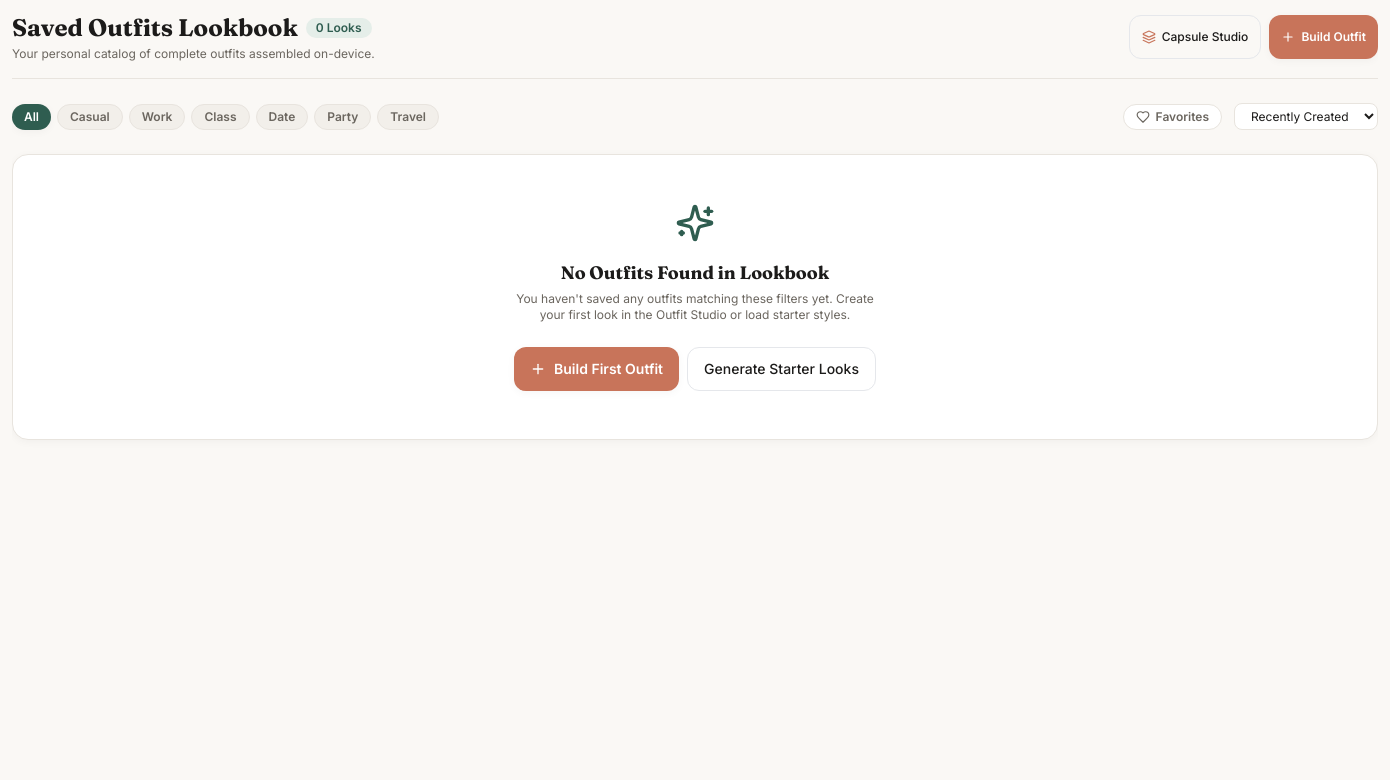
Phase 6: Outfit Studio, Lookbook Gallery & Capsule Wardrobe › LookbookGallery › renders empty state when no outfits exist and generates starter looks
Expected: the heading "No Outfits Found in Lookbook" is shown, [561,261,829,284]
Click generate starter looks
Click the button "Generate Starter Looks" at (781, 369), box [687,347,876,391]
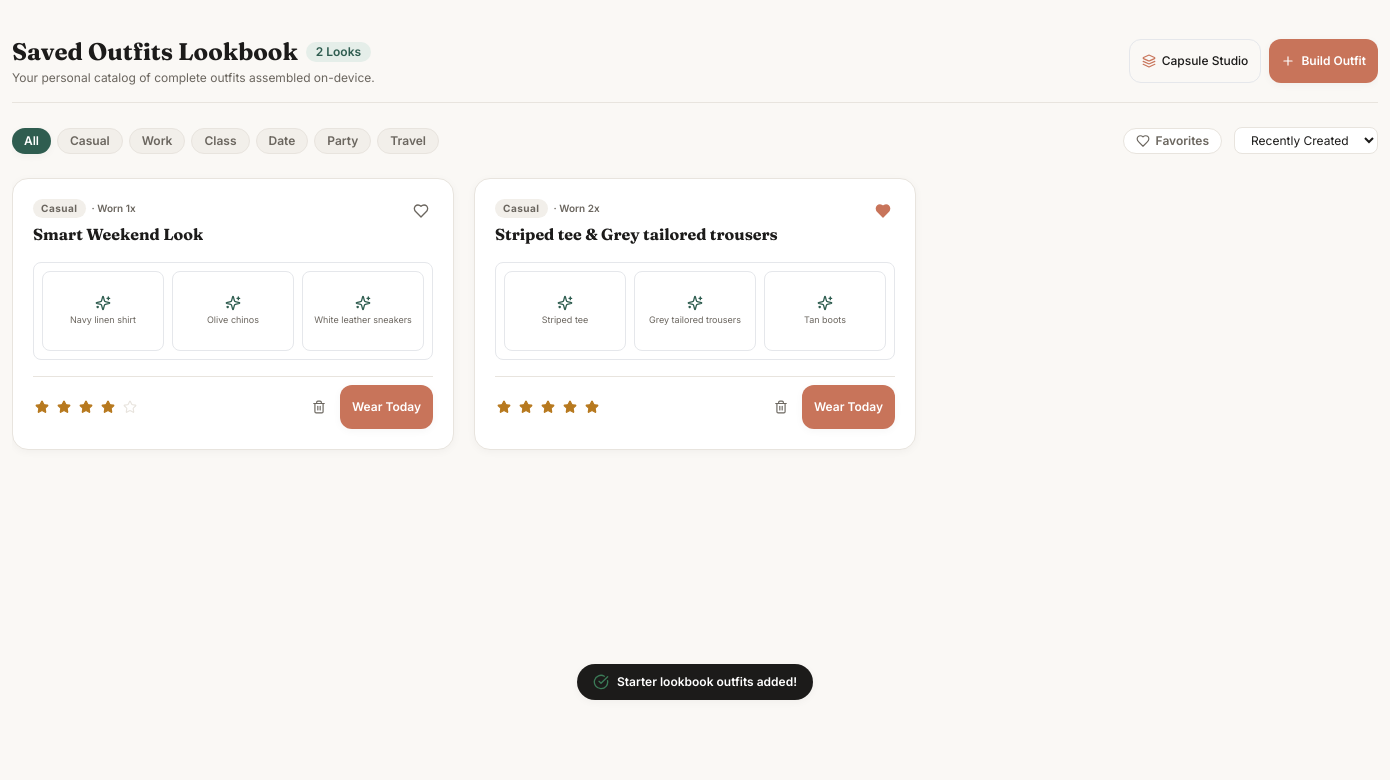
Result: the text "Starter lookbook outfits added!" is shown at [617,674,797,690]
